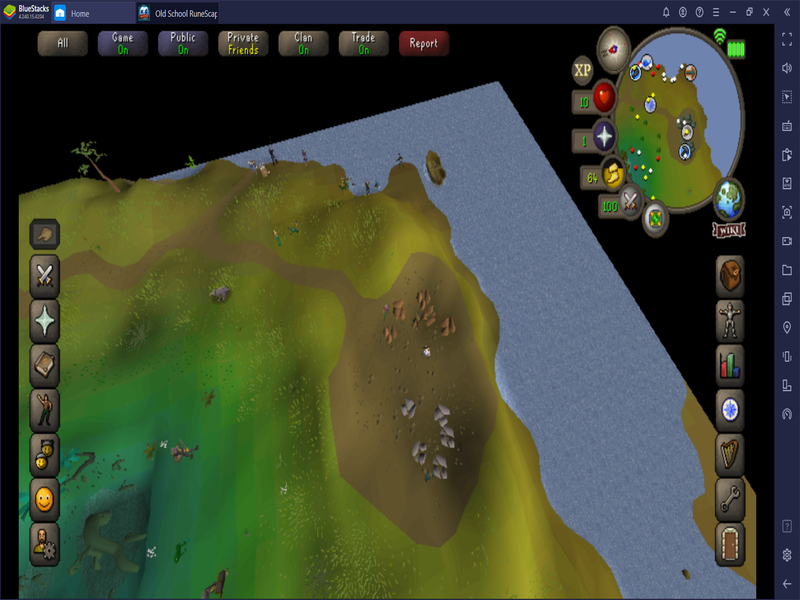copper_rock_1: (382, 325, 398, 344)
copper_rock_2: (391, 298, 407, 323)
